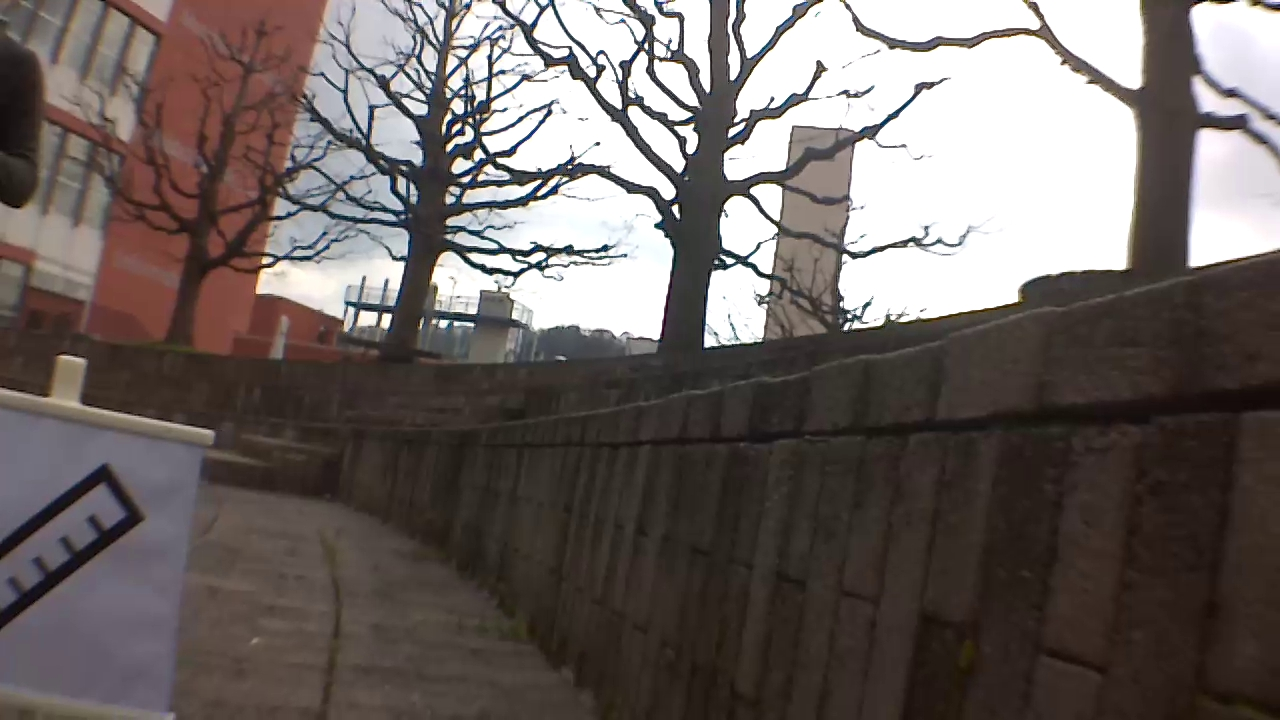ruler: (0, 461, 143, 630)
